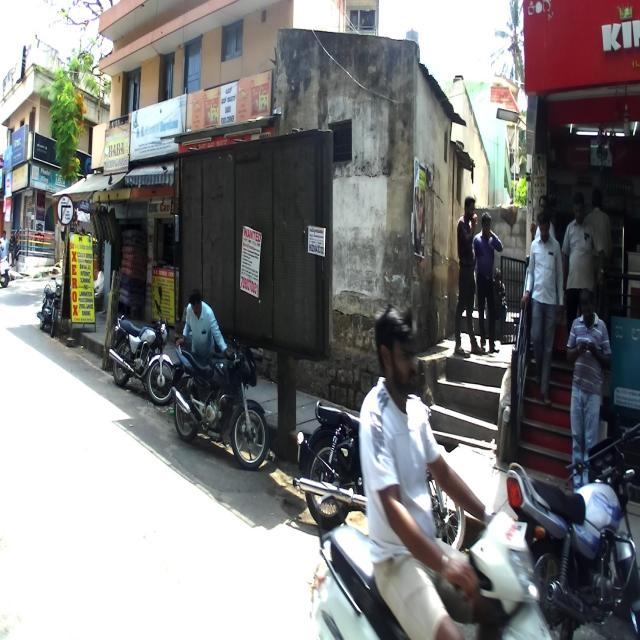motorcycle: (292, 384, 465, 554), (505, 422, 639, 640), (169, 332, 270, 468), (108, 282, 175, 404), (37, 274, 62, 336)
